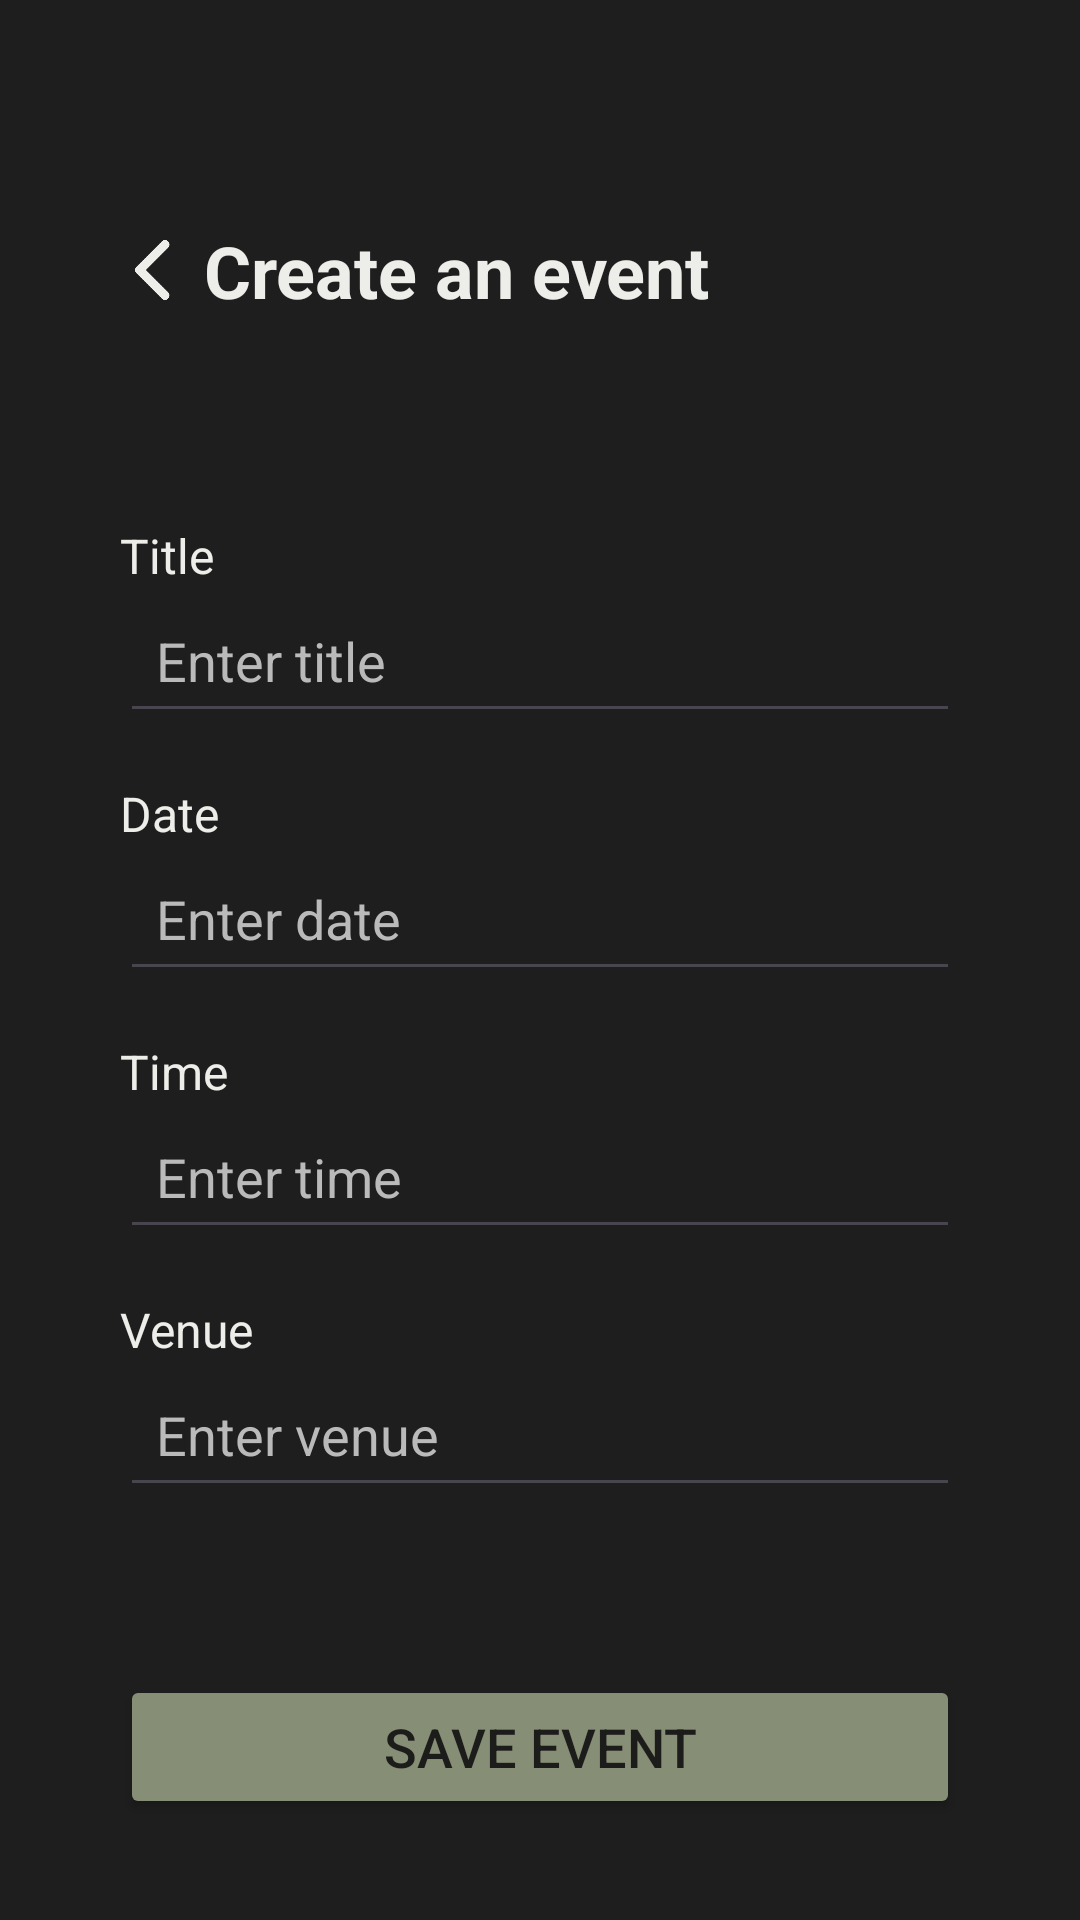

Named icons in this screenshot (1080 x 1920) and their centers, (x,y):
Back arrow: (152,270)
